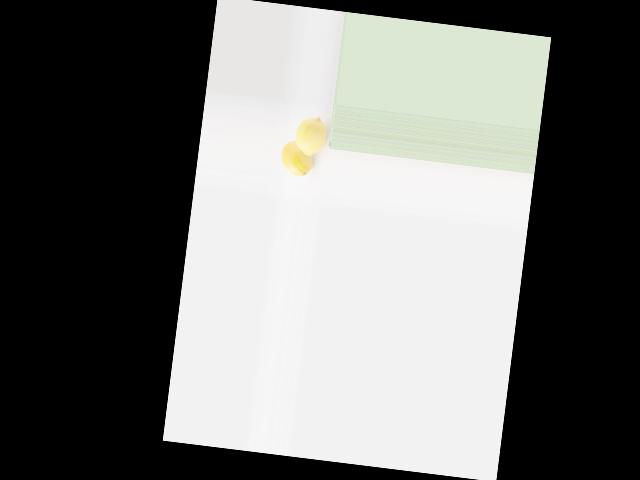lemon: (278, 141, 312, 178)
